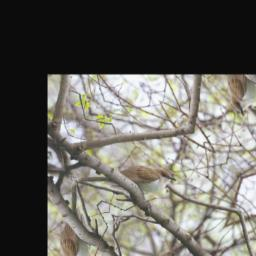Cuckoo: (74, 131, 177, 229)
